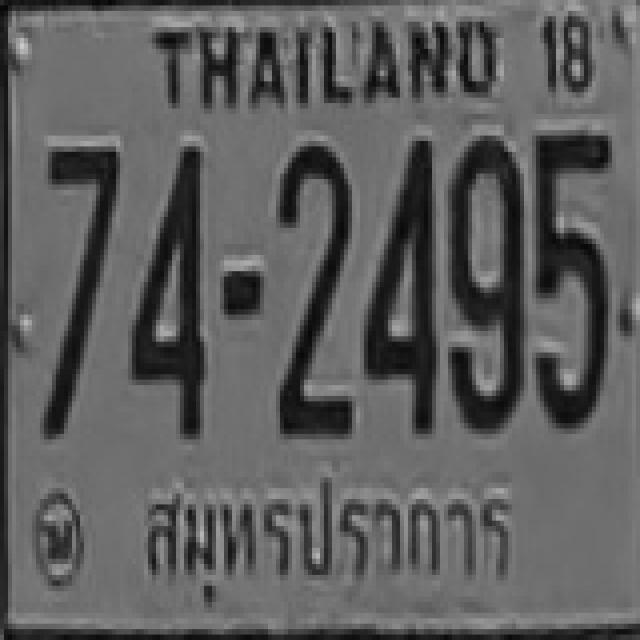2: (274, 142, 354, 435)
4: (126, 141, 214, 443), (360, 136, 440, 436)
5: (532, 128, 612, 432)
7: (42, 144, 122, 436)
9: (444, 136, 528, 436)
SamutPrakan: (132, 462, 530, 624)
